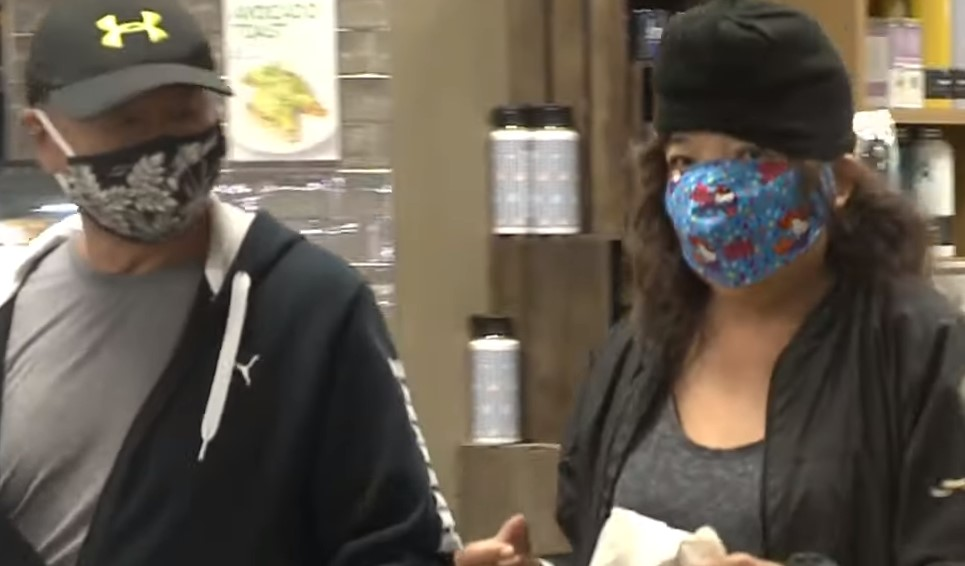face_with_mask: (647, 2, 866, 298), (25, 1, 233, 243)
